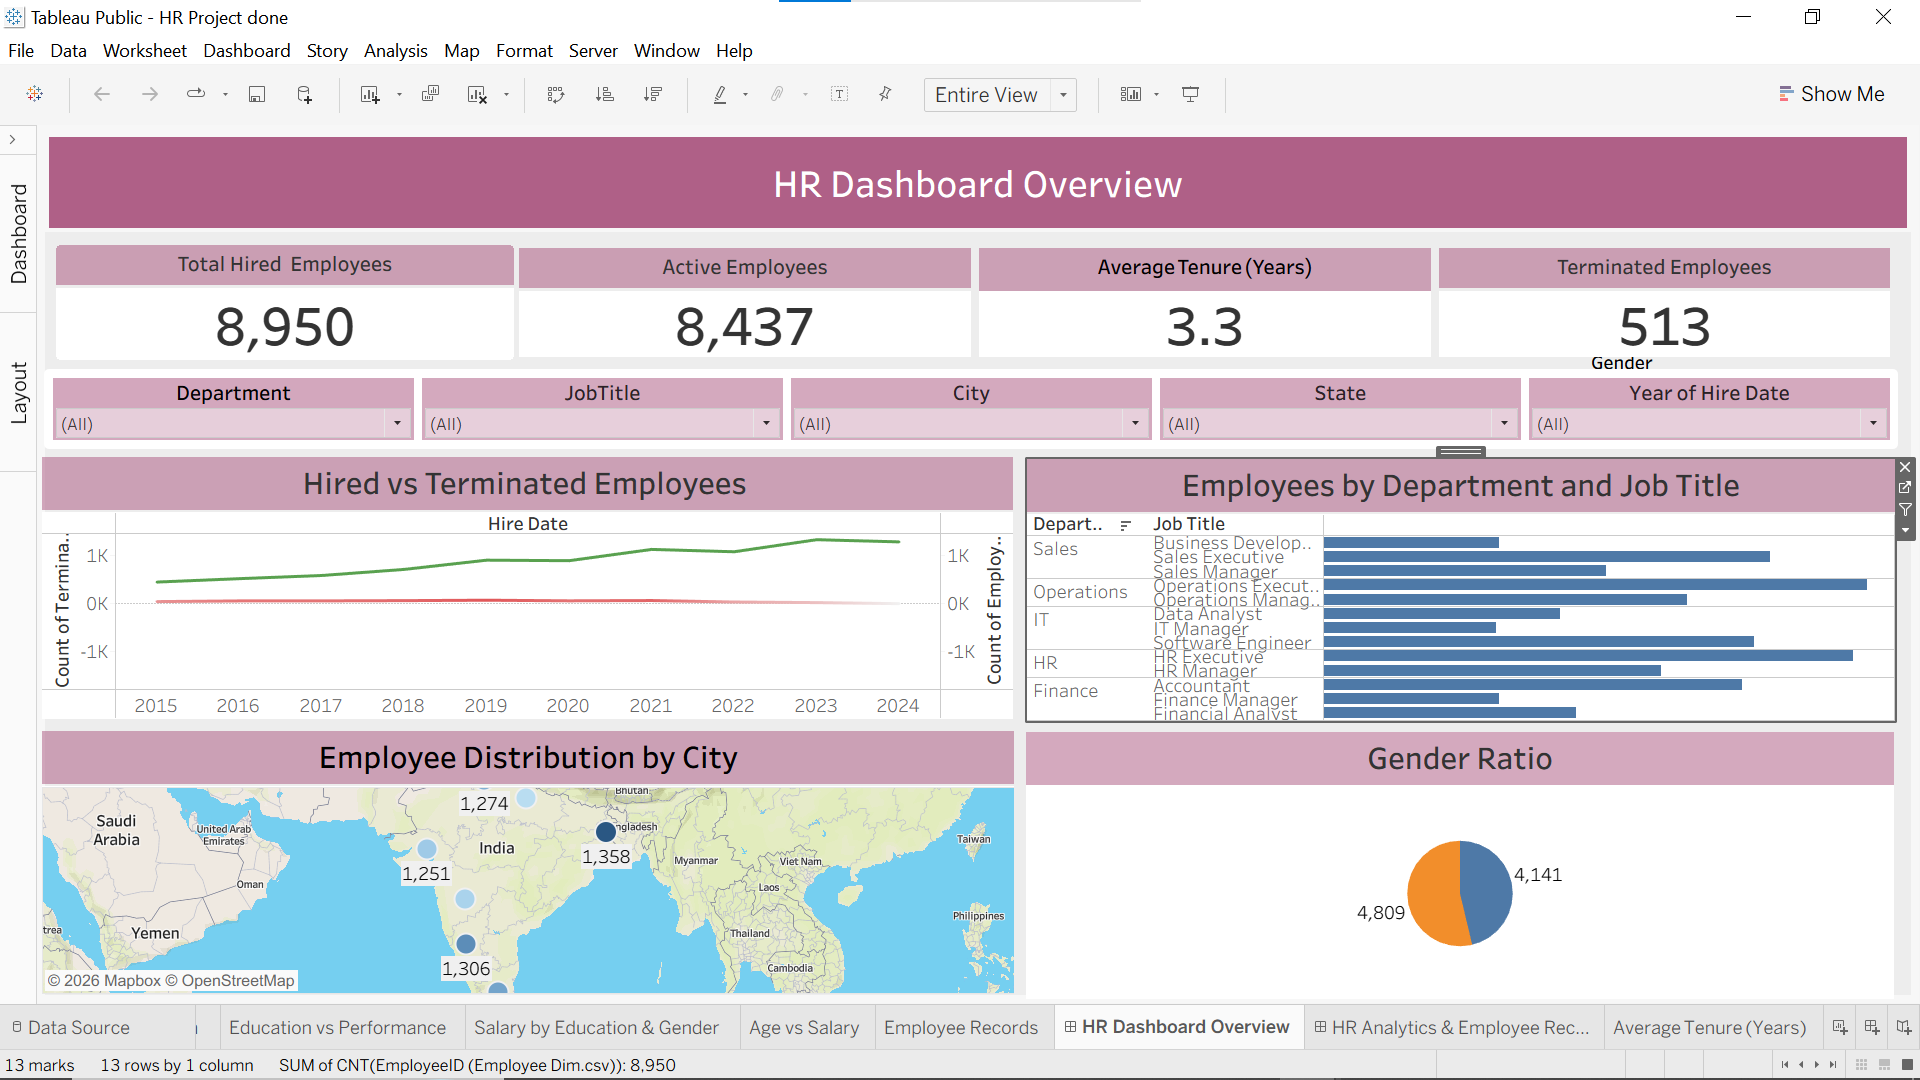

What the dashboard file says about the page in this screenshot:
{"tool":"tableau","page":{"name":"HR Dashboard Overview ","canvas":[1000,1000],"units":"permille","ordinal":1},"visuals":[{"type":"title","box":[4.2,9.1,991.5,112.8]},{"type":"worksheet","title":"Total Hired  Employees","mark":"Automatic","box":[9.6,135.5,244.4,133.2]},{"type":"worksheet","title":"Active Employees","mark":"Automatic","box":[254,135.5,244.4,133.2]},{"type":"worksheet","title":"Average Tenure (Years)","mark":"Text","box":[498.4,135.5,244.4,133.2]},{"type":"worksheet","title":"Terminated Employees","mark":"Automatic","box":[742.8,135.5,243.9,133.2]},{"type":"legend","title":"Gender Ratio","param":"[federated.0zlnayg0wag6341ebmsvz1nb7y41].[none:Gender:nk]","box":[825.6,255.1,102.7,85.4]},{"type":"filter","title":"Employees by Department and Job Title","param":"[federated.0zlnayg0wag6341ebmsvz1nb7y41].[none:Department (JobTitle_Dim.csv):nk]","box":[6.4,283.6,196.1,79.7]},{"type":"filter","title":"Employees by Department and Job Title","param":"[federated.0zlnayg0wag6341ebmsvz1nb7y41].[none:JobTitle (JobTitle_Dim.csv):nk]","box":[202.4,283.6,196.1,79.7]},{"type":"filter","title":"Employees by state","param":"[federated.0zlnayg0wag6341ebmsvz1nb7y41].[none:City (Location_Dim.csv):nk]","box":[398.5,283.6,196.1,79.7]},{"type":"filter","title":"Employees by state","param":"[federated.0zlnayg0wag6341ebmsvz1nb7y41].[none:State (Location_Dim.csv):nk]","box":[594.6,283.6,196.1,79.7]},{"type":"filter","title":"Hired vs Terminated Over Years","param":"[federated.0zlnayg0wag6341ebmsvz1nb7y41].[yr:HireDate:ok]","box":[790.6,283.6,196.1,79.7]},{"type":"worksheet","title":"Hired vs Terminated Over Years","mark":"Line","rows":["Calculation_1038497629061121","EmployeeID"],"cols":["HireDate"],"box":[2.5,378.1,516.2,298.4]},{"type":"worksheet","title":"Employees by Department and Job Title","mark":"Automatic","rows":["Department","JobTitle"],"cols":["EmployeeID (Employee_Dim.csv)"],"box":[526.2,380.4,461.2,298.4]},{"type":"worksheet","title":"Employees by state","mark":"Automatic","box":[2.5,690.2,516.8,299.5]},{"type":"worksheet","title":"Gender Ratio","mark":"Pie","box":[525.5,691.3,461.4,304.1]}]}

Visuals, with their boxes on the dashboard's canvas, which has no fixed pixel size, in thousandths of its width and height (x1, y1, x2, y2). These are canvas units, not pixel positions in the 1920x1080 screenshot, which may show the page scaled, cropped or inside an application window:
title: region(4, 9, 996, 122)
"Total Hired  Employees" worksheet: region(10, 136, 254, 269)
"Active Employees" worksheet: region(254, 136, 498, 269)
"Average Tenure (Years)" worksheet (Text marks): region(498, 136, 743, 269)
"Terminated Employees" worksheet: region(743, 136, 987, 269)
"Gender Ratio" legend: region(826, 255, 928, 340)
"Employees by Department and Job Title" filter: region(6, 284, 202, 363)
"Employees by Department and Job Title" filter: region(202, 284, 398, 363)
"Employees by state" filter: region(398, 284, 595, 363)
"Employees by state" filter: region(595, 284, 791, 363)
"Hired vs Terminated Over Years" filter: region(791, 284, 987, 363)
"Hired vs Terminated Over Years" worksheet (Line marks): region(2, 378, 519, 676)
"Employees by Department and Job Title" worksheet: region(526, 380, 987, 679)
"Employees by state" worksheet: region(2, 690, 519, 990)
"Gender Ratio" worksheet (Pie marks): region(526, 691, 987, 995)
